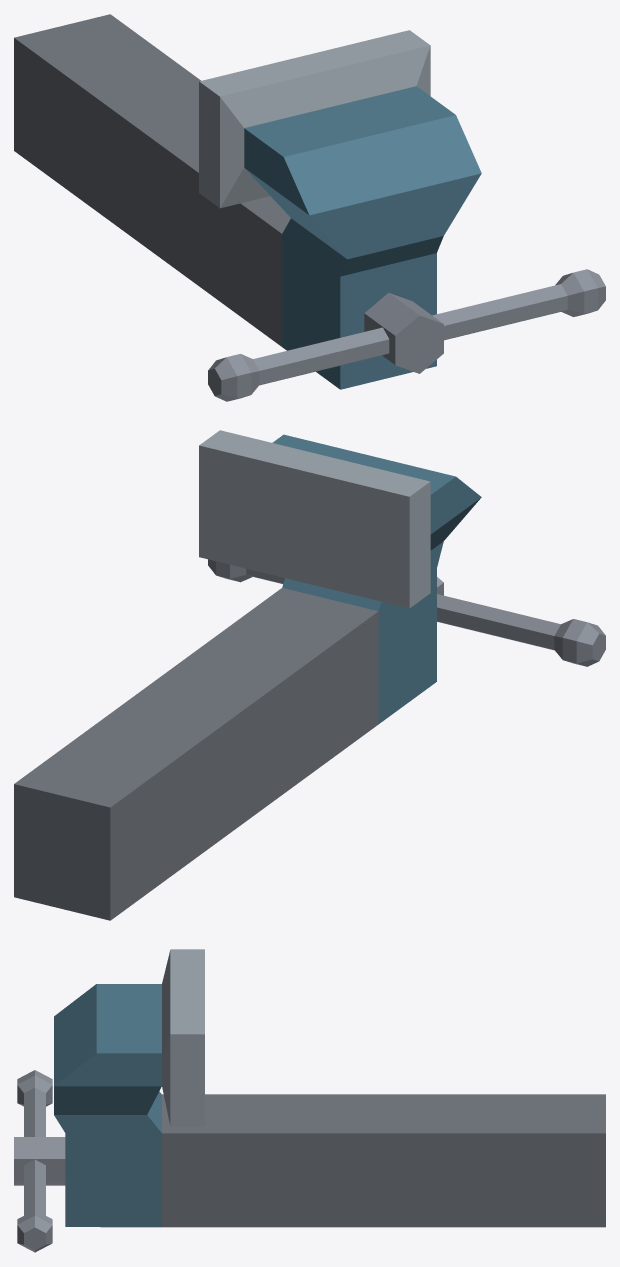
The model's file is SM_Prop_WorkTable_Vice_Clamp_01.fbx.
The picture shows the model from 3 angles, top to bottom: view 1: azimuth 30°, elevation 25°; view 2: azimuth 150°, elevation 25°; view 3: azimuth 270°, elevation 25°; orthographic projection. The views are drawn at different scales.
Visible parts, largest first — view 1: SM_Prop_WorkTable_Vice_Clamp_01; view 2: SM_Prop_WorkTable_Vice_Clamp_01; view 3: SM_Prop_WorkTable_Vice_Clamp_01.
Part boxes in pixels (x1,y1,x2,y2): SM_Prop_WorkTable_Vice_Clamp_01: (14,14,605,401); SM_Prop_WorkTable_Vice_Clamp_01: (14,430,605,920); SM_Prop_WorkTable_Vice_Clamp_01: (14,949,605,1252).
Bounding box in the file's own units: 28.29 × 18.32 × 45.55.
